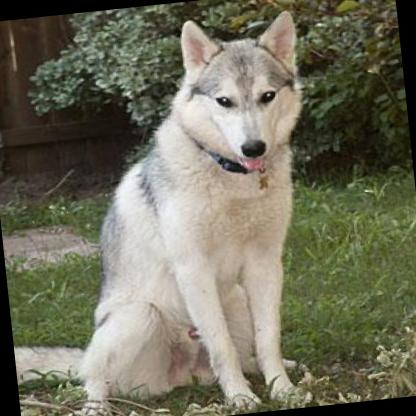Eskimo_dog: (40, 0, 333, 416)
